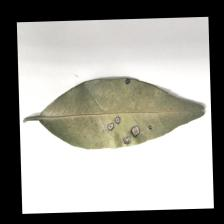canker: (88, 100, 160, 155)
